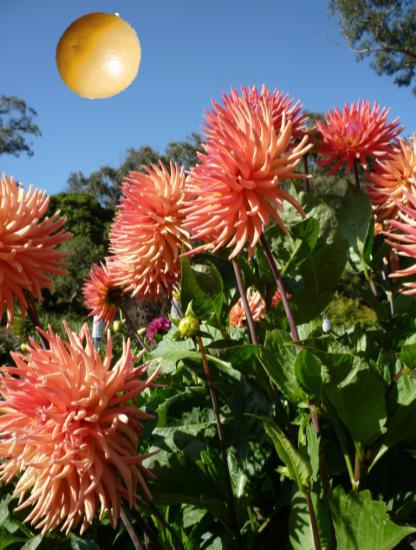Grapefruit: (53, 10, 143, 100)
